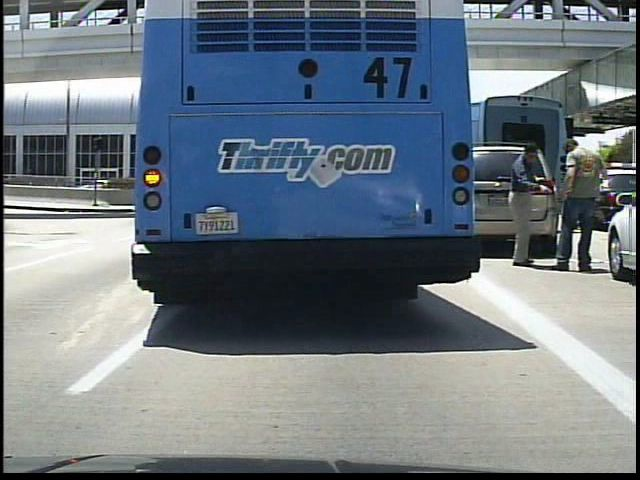person: (550, 123, 604, 281), (504, 132, 552, 268)
